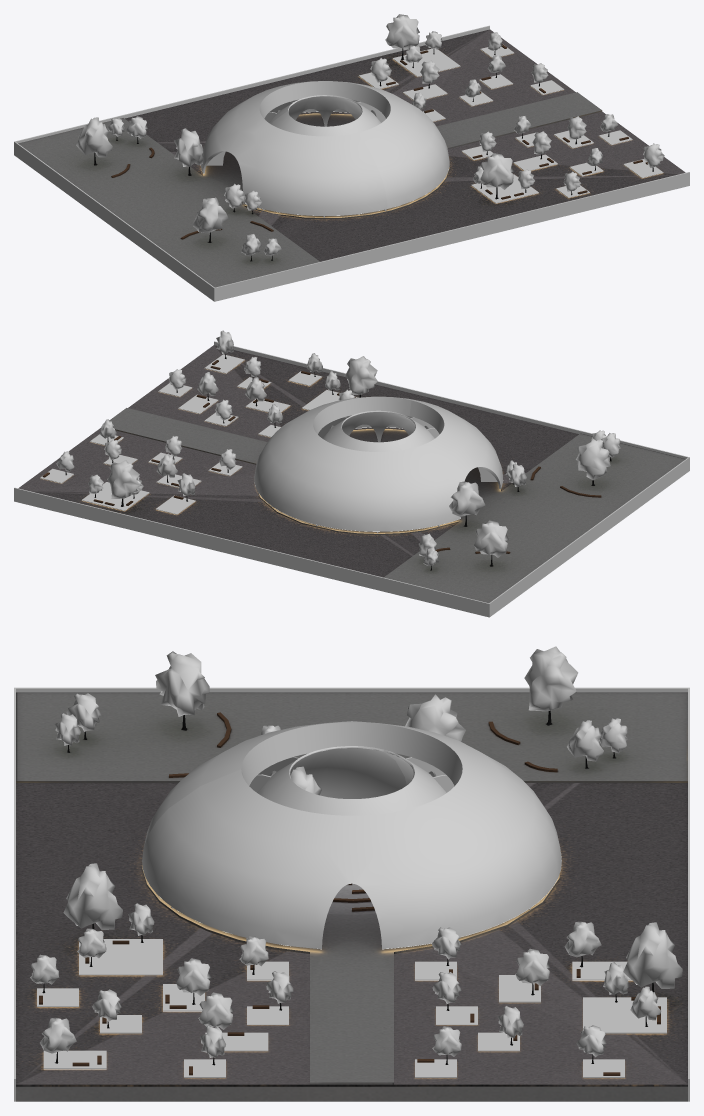
File: DomeGallery_plain.fbx
3 renders of one model, top to bottom at view 1: azimuth 30°, elevation 25°; view 2: azimuth 150°, elevation 25°; view 3: azimuth 270°, elevation 25°, orthographic. The views are drawn at different scales.
Visible parts, largest first — view 1: Concrete, Water, Floor, Tree, Stone, Wood; view 2: Concrete, Water, Floor, Tree, Stone, Wood; view 3: Water, Concrete, Floor, Tree, Stone, Wood.
Boxes of the visible parts, <box> form: Concrete: <box>14,25,689,301</box>; Water: <box>125,29,685,261</box>; Floor: <box>18,92,602,287</box>; Tree: <box>76,14,664,256</box>; Stone: <box>359,44,663,203</box>; Wood: <box>111,44,647,239</box>; Concrete: <box>14,341,689,617</box>; Water: <box>18,345,578,577</box>; Floor: <box>109,408,685,602</box>; Tree: <box>56,330,620,565</box>; Stone: <box>40,354,358,514</box>; Wood: <box>42,360,601,553</box>; Water: <box>16,783,687,1086</box>; Concrete: <box>14,687,689,1101</box>; Floor: <box>16,692,687,1101</box>; Tree: <box>30,646,682,1057</box>; Stone: <box>37,939,666,1077</box>; Wood: <box>39,712,660,1075</box>.
Size of the model in its own units: 16100 by 3026 by 22050.
